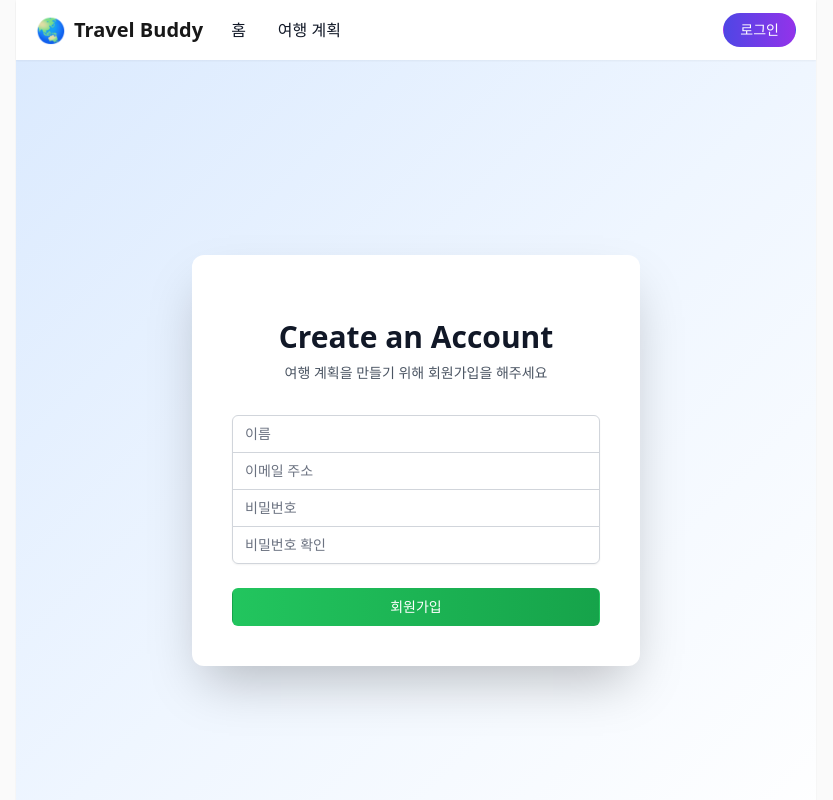
Test: 회원가입 › 잘못된 입력 데이터로 회원가입 시 에러 메시지 표시
This screenshot has width=833, height=800.
Type "이름이열자를초과하는경우" into the field with test id "signup-name-input" at [416, 434], box [232, 415, 600, 453]
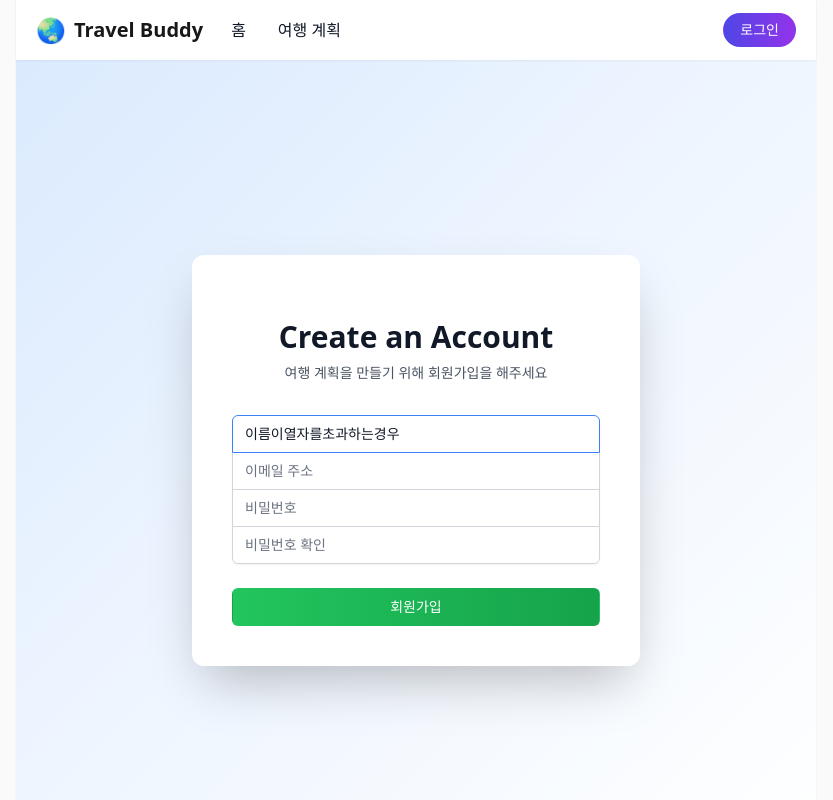
Type "invalid-email" into the field with test id "signup-email-input" at [416, 471], box [232, 452, 600, 490]
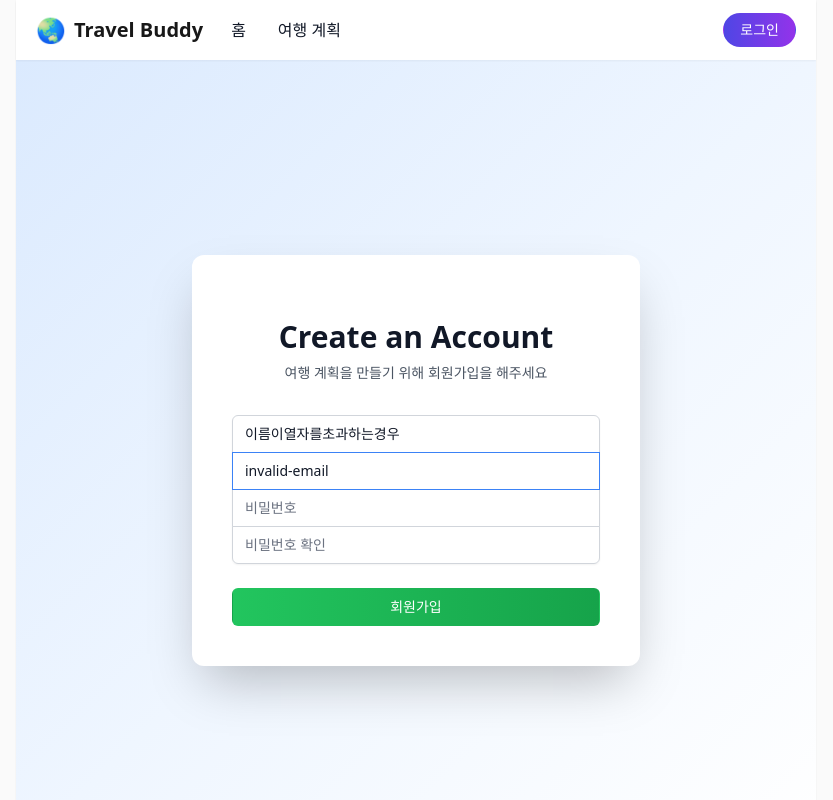
Type "1234" into the password field with test id "signup-password-input" at [416, 508], box [232, 489, 600, 527]
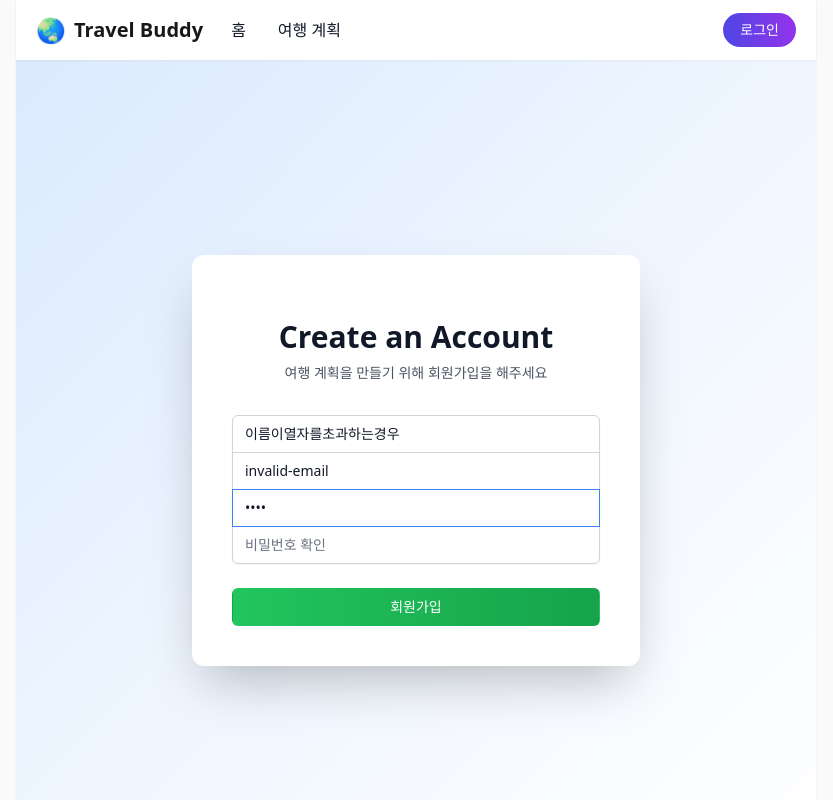
Type "5678" into the password field with test id "signup-confirm-password-input" at [416, 545], box [232, 526, 600, 564]
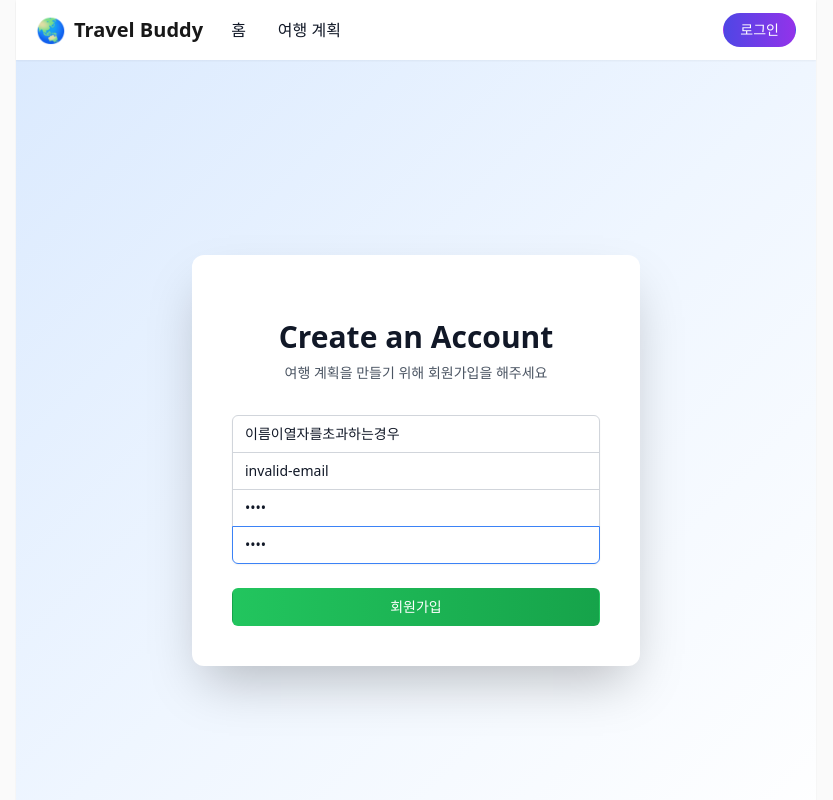
Click the button with test id "signup-submit-button" at [416, 607], box [232, 588, 600, 626]
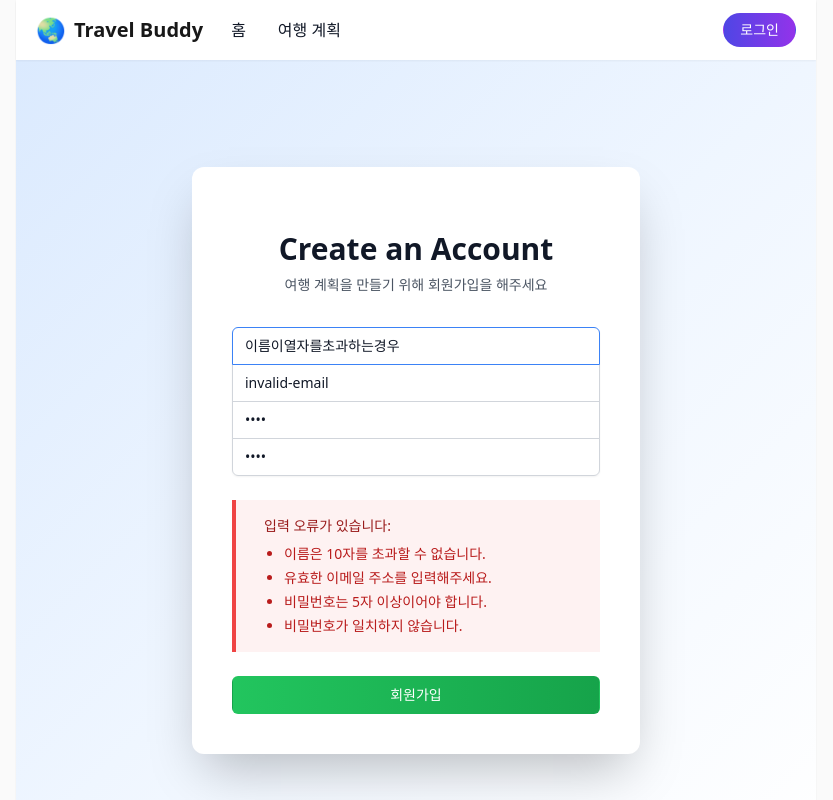
Result: the list item with test id "error-message" shows "이름은 10자를 초과할 수 없습니다" at [284, 544, 486, 563]
Result: the list item with test id "error-message" shows "유효한 이메일 주소를 입력해주세요" at [284, 568, 492, 587]
Result: the list item with test id "error-message" shows "비밀번호는 5자 이상이어야 합니다" at [284, 592, 487, 611]
